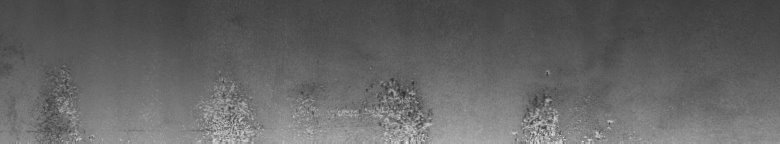hc: (516, 70, 614, 136)
